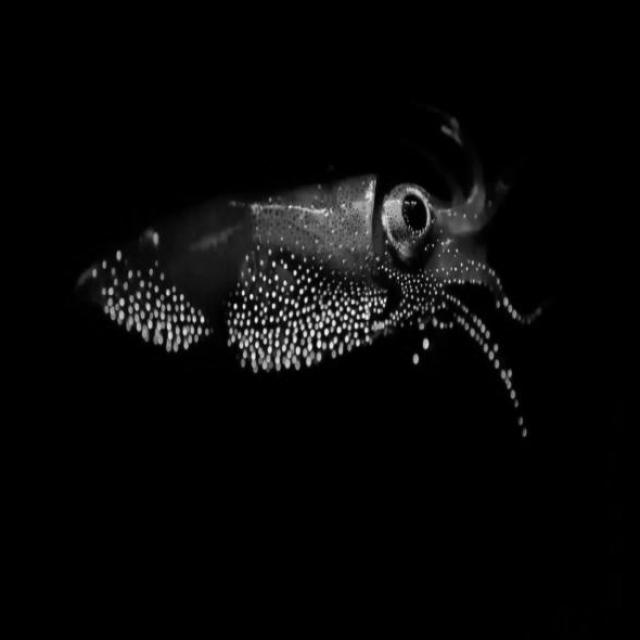SQUID: (57, 105, 556, 466)
